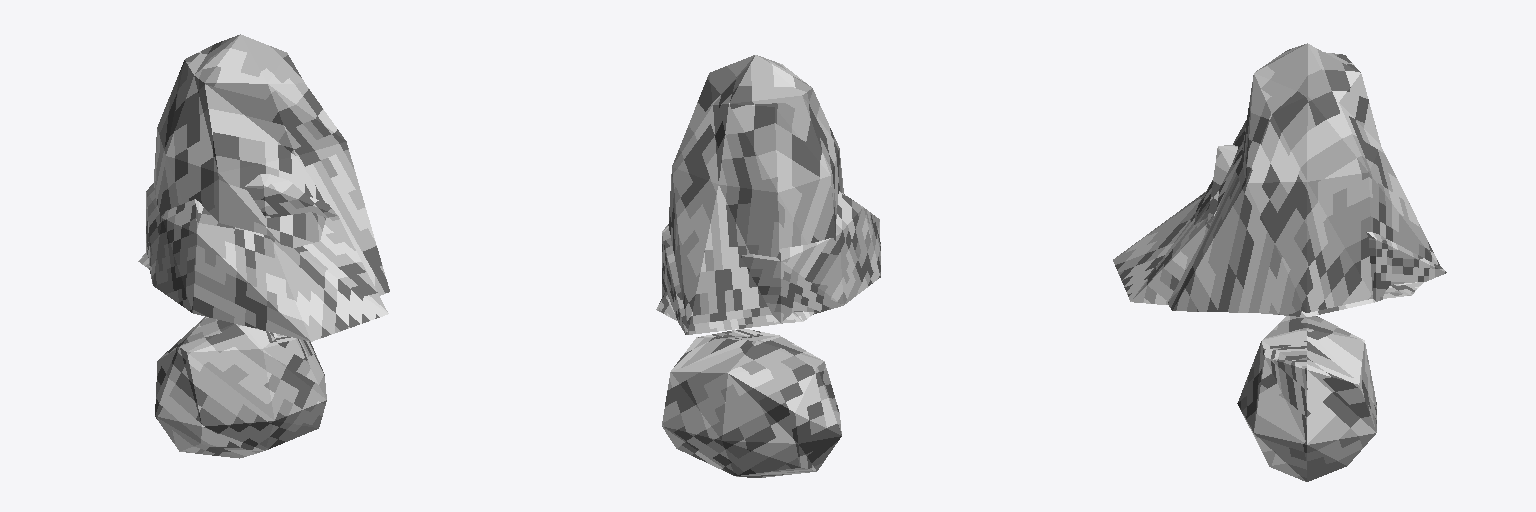
3 views of the same model, side by side, from view 1: azimuth 30°, elevation 25°; view 2: azimuth 150°, elevation 25°; view 3: azimuth 270°, elevation 25° (orthographic).
Visible parts, largest first — view 1: rock1_Cube, rock2_Cube.001, itemrock_Cube.003; view 2: rock1_Cube, itemrock_Cube.003, rock2_Cube.001, rock3_Cube.002; view 3: rock1_Cube, itemrock_Cube.003, rock2_Cube.001.
Part boxes in pixels (left/top/right/bottom): rock1_Cube: left=154, top=34, right=389, bottom=295; rock2_Cube.001: left=146, top=174, right=388, bottom=341; itemrock_Cube.003: left=155, top=317, right=326, bottom=458; rock1_Cube: left=668, top=55, right=843, bottom=324; itemrock_Cube.003: left=662, top=328, right=841, bottom=477; rock2_Cube.001: left=662, top=191, right=880, bottom=334; rock3_Cube.002: left=656, top=292, right=815, bottom=323; rock1_Cube: left=1168, top=43, right=1439, bottom=313; itemrock_Cube.003: left=1237, top=316, right=1376, bottom=481; rock2_Cube.001: left=1113, top=145, right=1446, bottom=316.
Size of the model in its own units: 3.08 by 6.98 by 4.99.
Materials: 1 (1 with a texture image).